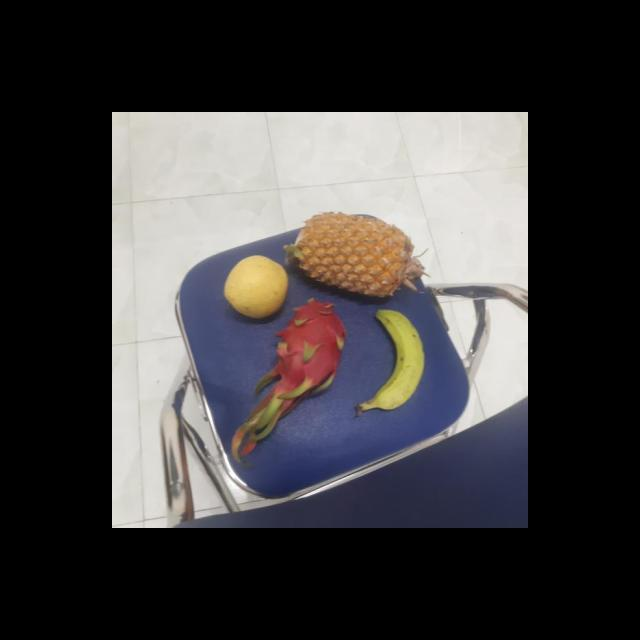banana: (362, 306, 426, 411)
pear: (220, 254, 290, 320)
pineapple: (285, 208, 421, 302)
pitaya: (268, 299, 346, 392)
